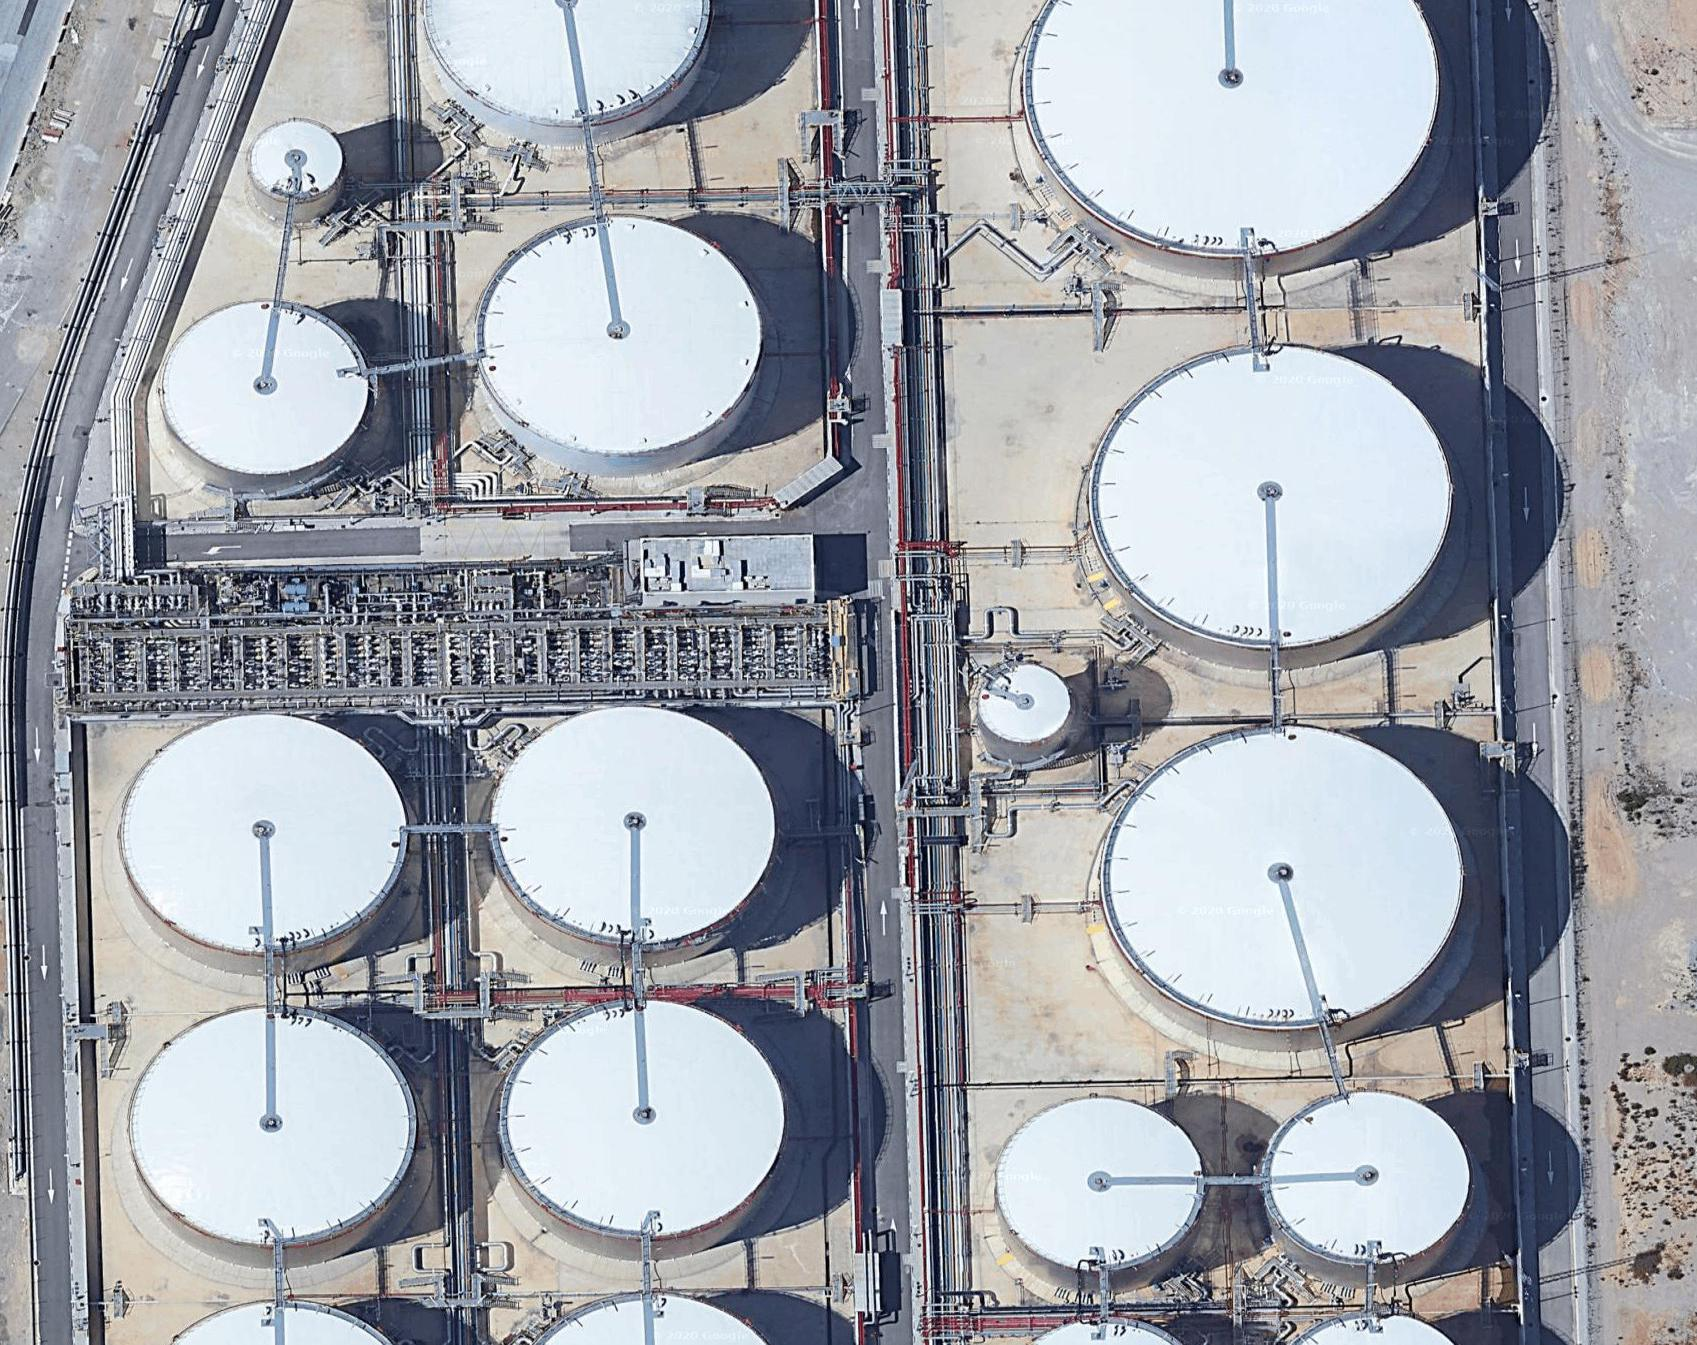storage-tank: (1006, 1, 1453, 276), (1096, 722, 1468, 1040), (1092, 329, 1450, 656), (96, 710, 415, 978), (479, 695, 802, 949), (477, 988, 800, 1242), (105, 995, 424, 1250), (466, 203, 764, 464), (154, 294, 386, 482), (424, 1, 714, 143), (1253, 1091, 1474, 1271), (985, 1098, 1207, 1272), (230, 106, 350, 220), (975, 663, 1079, 750)
